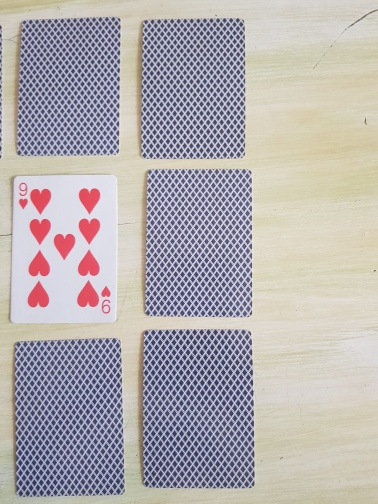nine: (9, 173, 119, 324)
